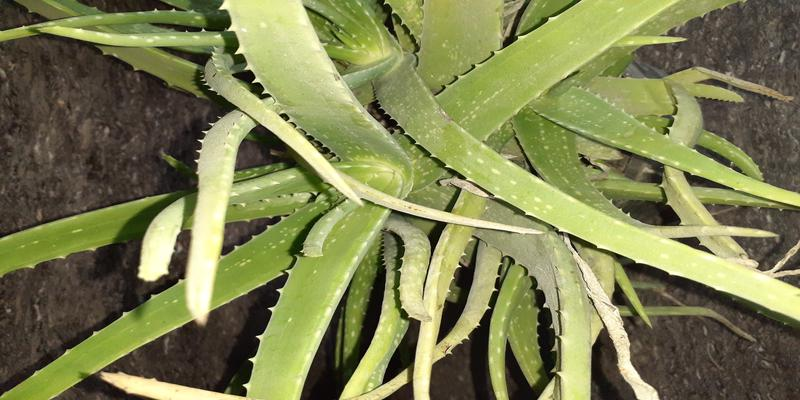Aloevera: (135, 8, 730, 352)
